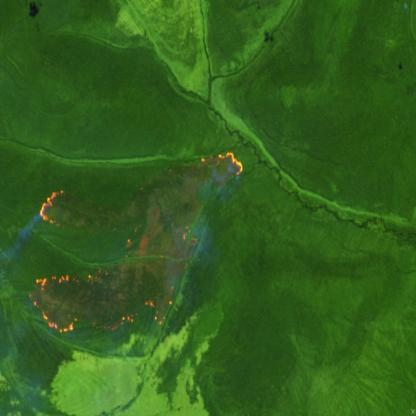fire: (29, 146, 244, 339)
